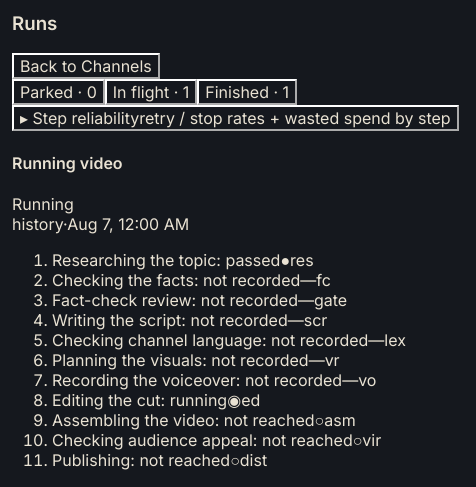
Test: RunsHub plain-language defaults › shows honest node progress only for the selected lifecycle
The image size is (476, 487).
expect the list item "Editing the cut: running" is shown: met, box [52, 390, 260, 410]
expect the text "Finished video" is not shown: met
Click the tab named "Finished 1".
click(247, 92)  # box [197, 79, 297, 105]
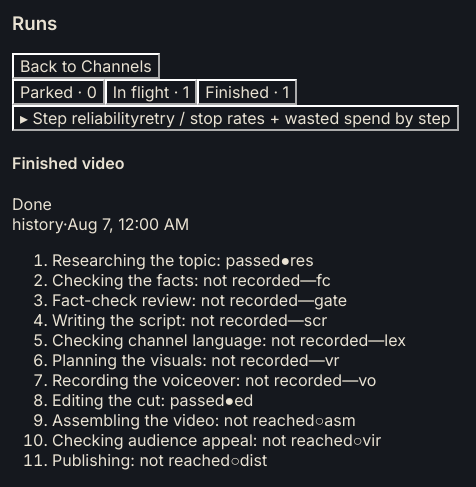
expect the list item "Publishing: not reached" is shown: met, box [52, 450, 267, 470]
expect the heading "Finished video" is shown: met, box [12, 153, 124, 173]
expect the list item "Editing the cut: passed" is shown: met, box [52, 390, 253, 410]
